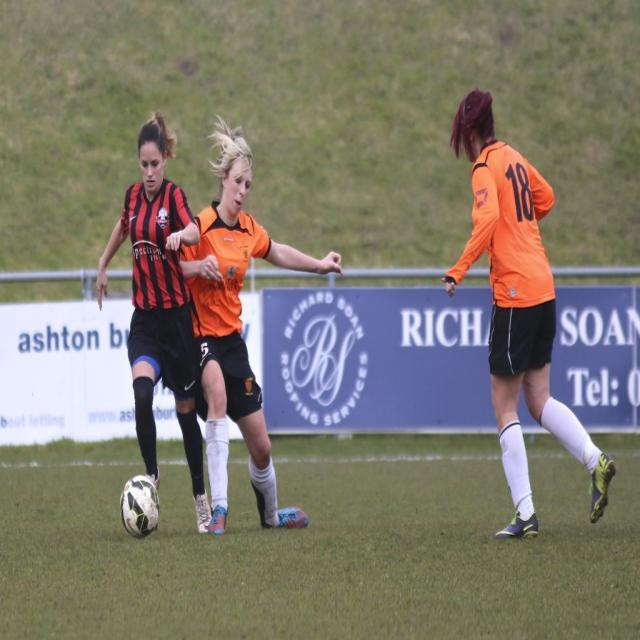football: (112, 459, 169, 544)
